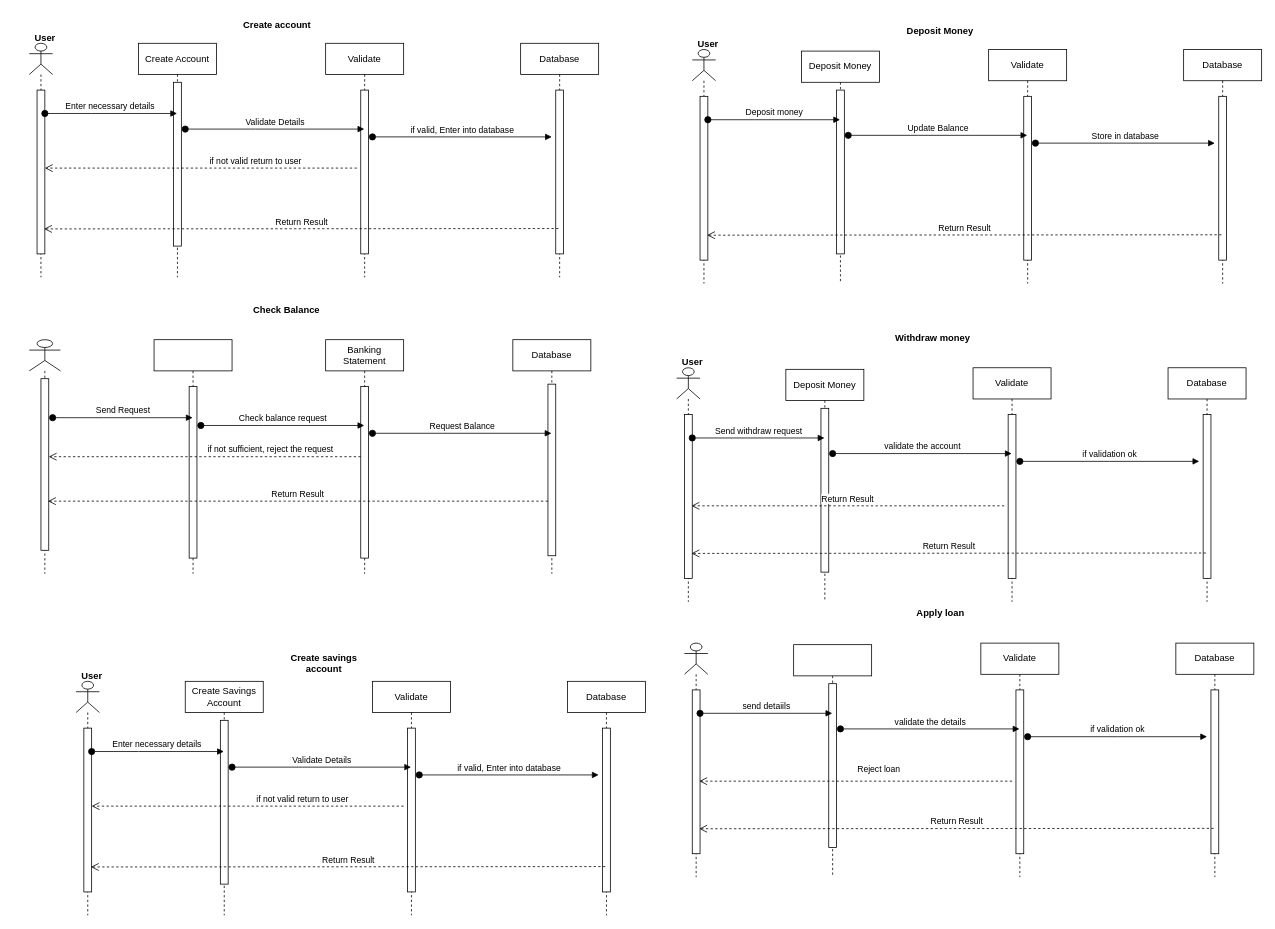
The diagram is 1275 pixels wide and 929 high, and some of its shapes have lost their labels. Here are the shapes that lost their labels. From the top down, the box of each, then its label:
(153, 339, 232, 574): Current Balance
(793, 644, 872, 877): Apply
